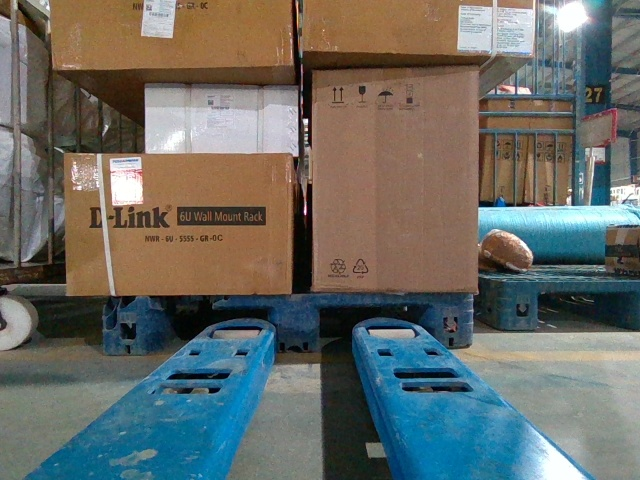block: (101, 298, 147, 355), (272, 296, 318, 353), (424, 294, 471, 348), (499, 281, 537, 331)
front: (106, 294, 471, 352)
hole pallet: (152, 305, 269, 352), (316, 304, 424, 349), (538, 292, 635, 326)
